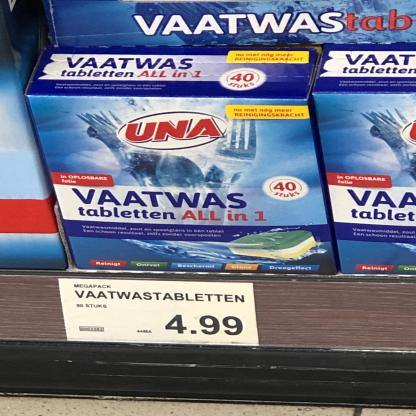prtg: (59, 279, 261, 347)
